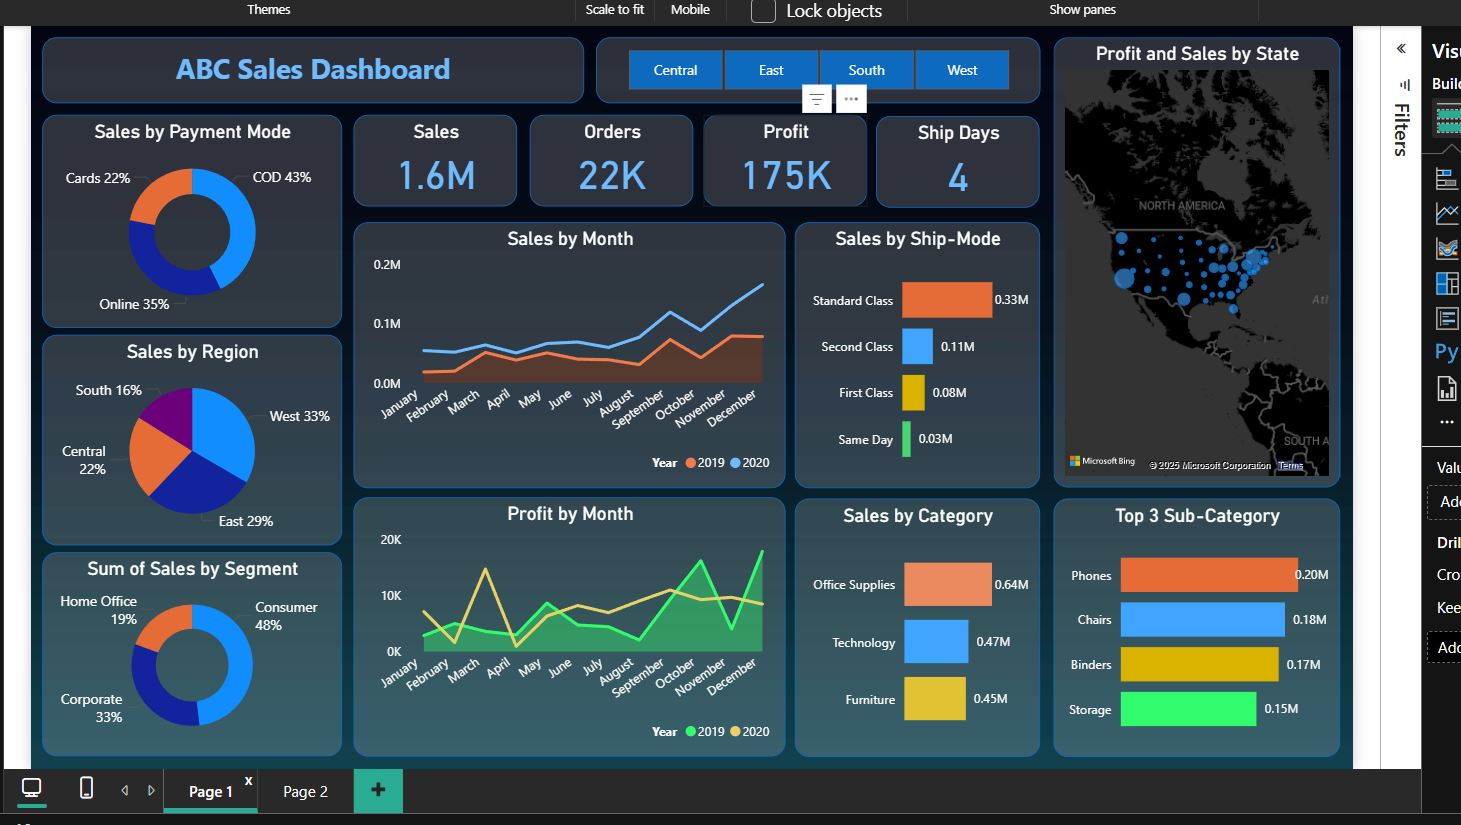

This screenshot's page, from the dashboard's own definition file:
{"tool":"powerbi","page":{"name":"Page 1","canvas":[1280,720],"ordinal":0},"visuals":[{"type":"clusteredBarChart","title":"Sales by Category","fields":{"Category":["SuperStore_Sales_Dataset.Category"],"Y":["Sum(SuperStore_Sales_Dataset.Sales)"]},"box":[740,457.5,237.5,250],"z":0},{"type":"clusteredBarChart","title":"Top 3 Sub-Category","fields":{"Y":["Sum(SuperStore_Sales_Dataset.Sales)"],"Category":["SuperStore_Sales_Dataset.Sub-Category"]},"box":[990,457.5,277.5,250],"z":1000},{"type":"clusteredBarChart","title":"Sales by Ship-Mode","fields":{"Y":["Sum(SuperStore_Sales_Dataset.Sales)"],"Category":["SuperStore_Sales_Dataset.Ship Mode"]},"box":[740,190,237.5,257.5],"z":2000},{"type":"areaChart","title":"Sales by Month","fields":{"Y":["Sum(SuperStore_Sales_Dataset.Sales)"],"Category":["SuperStore_Sales_Dataset.Order Date.Variation.Date Hierarchy.Month"],"Series":["SuperStore_Sales_Dataset.Order Date.Variation.Date Hierarchy.Year"]},"box":[312.5,190,418.8,257.5],"z":3000},{"type":"areaChart","title":"Profit by Month","fields":{"Category":["SuperStore_Sales_Dataset.Order Date.Variation.Date Hierarchy.Month"],"Series":["SuperStore_Sales_Dataset.Order Date.Variation.Date Hierarchy.Year"],"Y":["Sum(SuperStore_Sales_Dataset.Profit)"]},"box":[312.5,456.2,418.8,251.2],"z":4000},{"type":"map","title":"Profit and Sales by State","fields":{"Category":["SuperStore_Sales_Dataset.State"],"Size":["Sum(SuperStore_Sales_Dataset.Sales)"]},"box":[990,11.2,277.5,436.2],"z":5000},{"type":"donutChart","title":"Sales by Payment Mode","fields":{"Y":["Sum(SuperStore_Sales_Dataset.Sales)"],"Category":["SuperStore_Sales_Dataset.Payment Mode"]},"box":[11.2,86.2,290,206.2],"z":6000},{"type":"donutChart","fields":{"Category":["SuperStore_Sales_Dataset.Segment"],"Y":["Sum(SuperStore_Sales_Dataset.Sales)"]},"box":[11.2,510,290,197.5],"z":7000},{"type":"slicer","fields":{"Values":["SuperStore_Sales_Dataset.Region"]},"box":[545.9,10.9,430.9,64.2],"z":8000},{"type":"textbox","box":[11.2,11.2,525,63.8],"z":9000},{"type":"card","title":"Sales","fields":{"Values":["Sum(SuperStore_Sales_Dataset.Sales)"]},"box":[312.5,86.2,158.8,88.8],"z":10000},{"type":"card","title":"Orders","fields":{"Values":["Sum(SuperStore_Sales_Dataset.Quantity)"]},"box":[482.5,86.2,158.8,88.8],"z":11000},{"type":"card","title":"Profit","fields":{"Values":["Sum(SuperStore_Sales_Dataset.Profit)"]},"box":[651.2,86.2,158.8,88.8],"z":12000},{"type":"card","title":"Ship Days","fields":{"Values":["Avg(SuperStore_Sales_Dataset.AvgDelivery)"]},"box":[818.8,87.5,158.8,88.8],"z":13000},{"type":"pieChart","title":"Sales by Region","fields":{"Category":["SuperStore_Sales_Dataset.Region"],"Y":["Sum(SuperStore_Sales_Dataset.Sales)"]},"box":[11.2,298.8,290,203.8],"z":14000}]}

Visuals, with their boxes on the page's 1280x720 design canvas (x1, y1, x2, y2). These are canvas units, not pixel positions in the 1461x825 screenshot, which may show the page scaled, cropped or inside an application window:
"Sales by Category" clusteredBarChart: (left=740, top=458, right=978, bottom=708)
"Top 3 Sub-Category" clusteredBarChart: (left=990, top=458, right=1268, bottom=708)
"Sales by Ship-Mode" clusteredBarChart: (left=740, top=190, right=978, bottom=448)
"Sales by Month" areaChart: (left=312, top=190, right=731, bottom=448)
"Profit by Month" areaChart: (left=312, top=456, right=731, bottom=707)
"Profit and Sales by State" map: (left=990, top=11, right=1268, bottom=447)
"Sales by Payment Mode" donutChart: (left=11, top=86, right=301, bottom=292)
donutChart - SuperStore_Sales_Dataset.Segment x Sum(SuperStore_Sales_Dataset.Sales): (left=11, top=510, right=301, bottom=708)
slicer - SuperStore_Sales_Dataset.Region: (left=546, top=11, right=977, bottom=75)
textbox: (left=11, top=11, right=536, bottom=75)
"Sales" card: (left=312, top=86, right=471, bottom=175)
"Orders" card: (left=482, top=86, right=641, bottom=175)
"Profit" card: (left=651, top=86, right=810, bottom=175)
"Ship Days" card: (left=819, top=88, right=978, bottom=176)
"Sales by Region" pieChart: (left=11, top=299, right=301, bottom=503)
